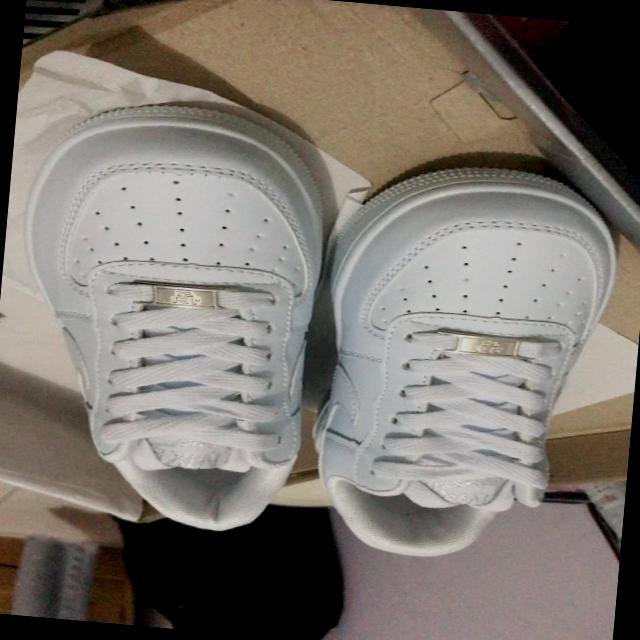nike_fake_airforce: (0, 86, 342, 555), (298, 147, 628, 582)
